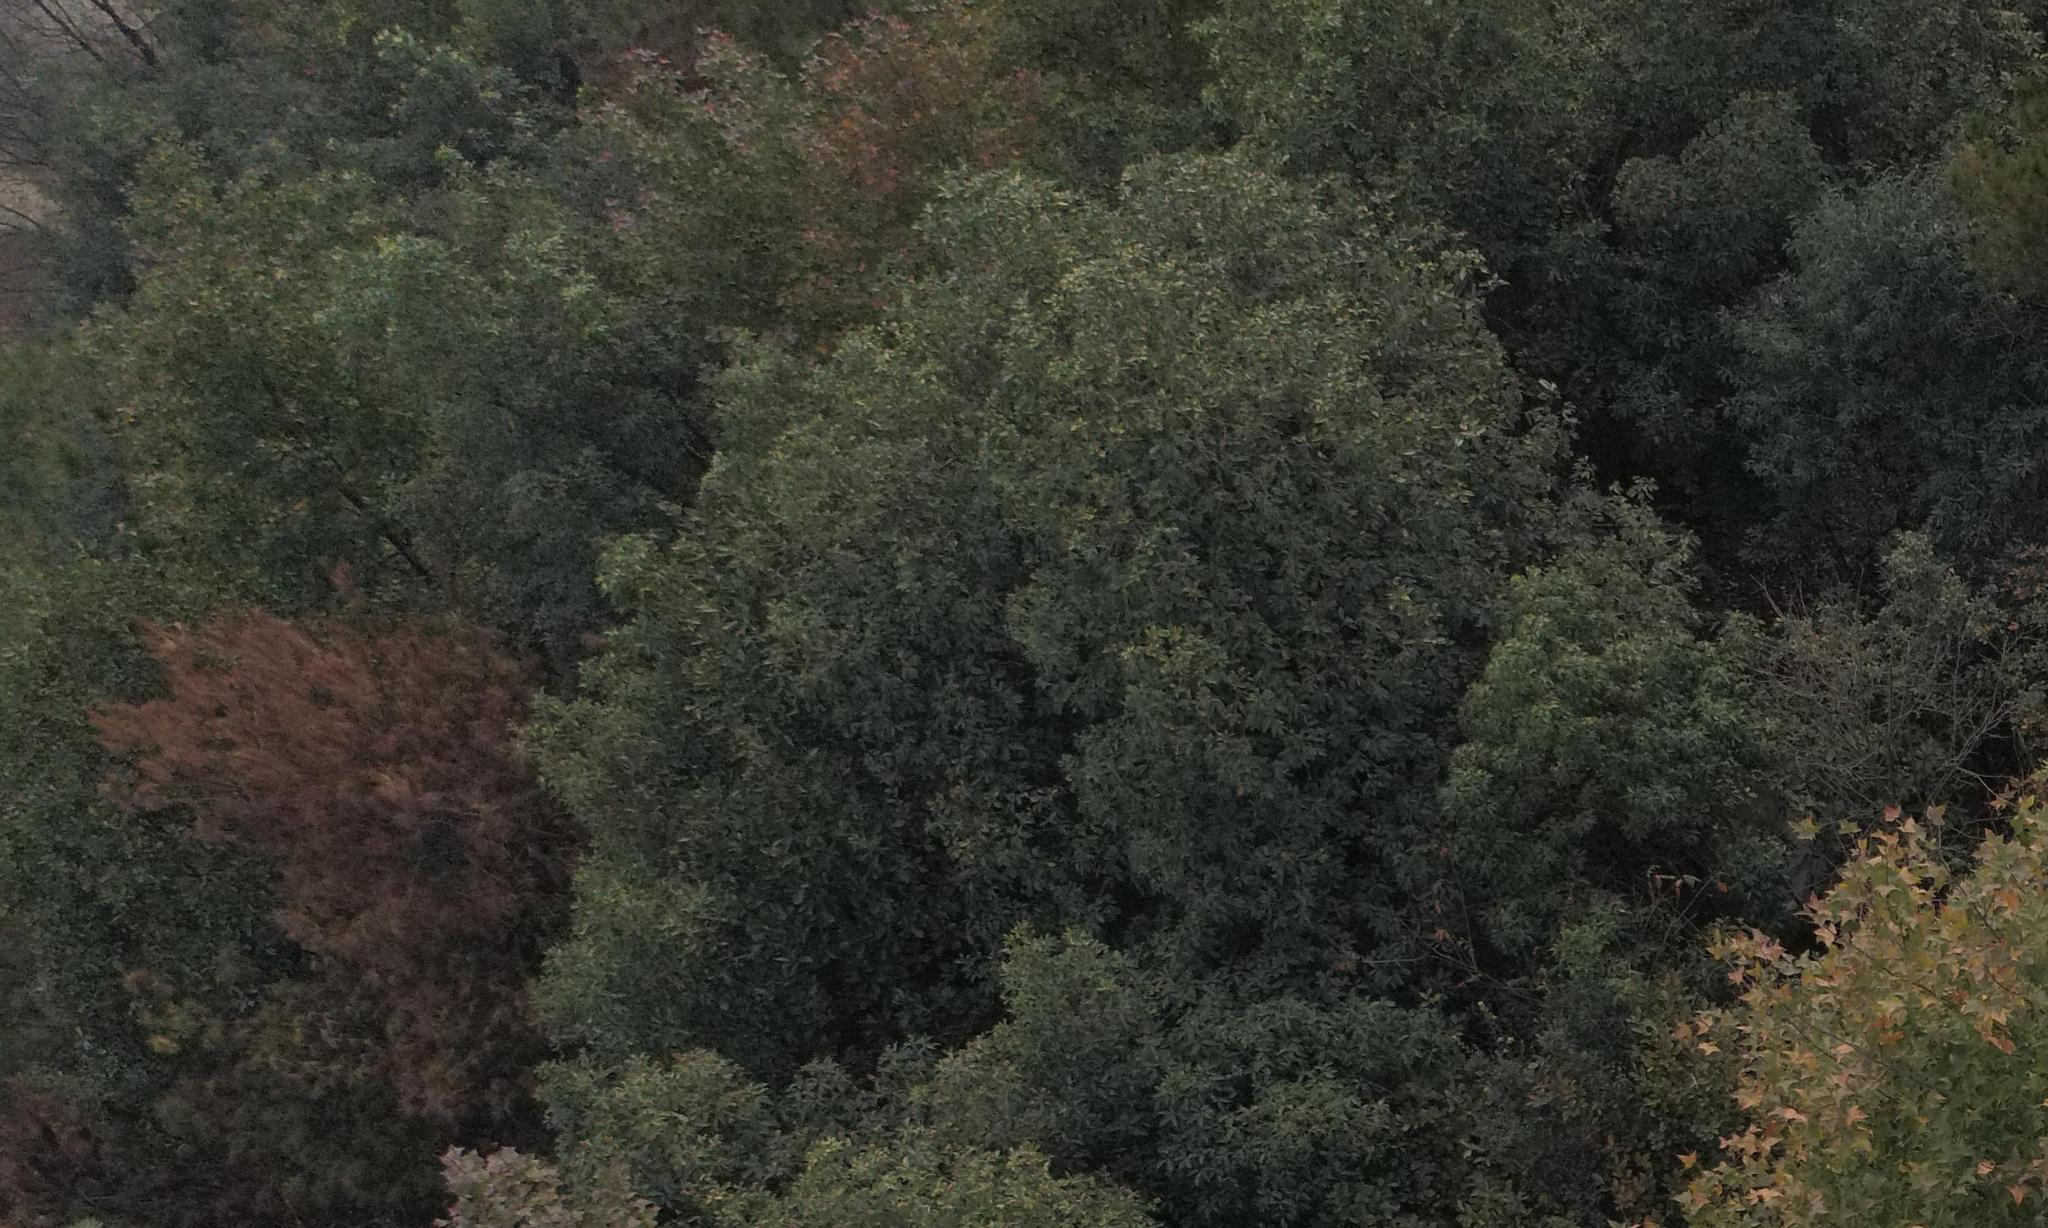heavy: (94, 591, 555, 1123)
